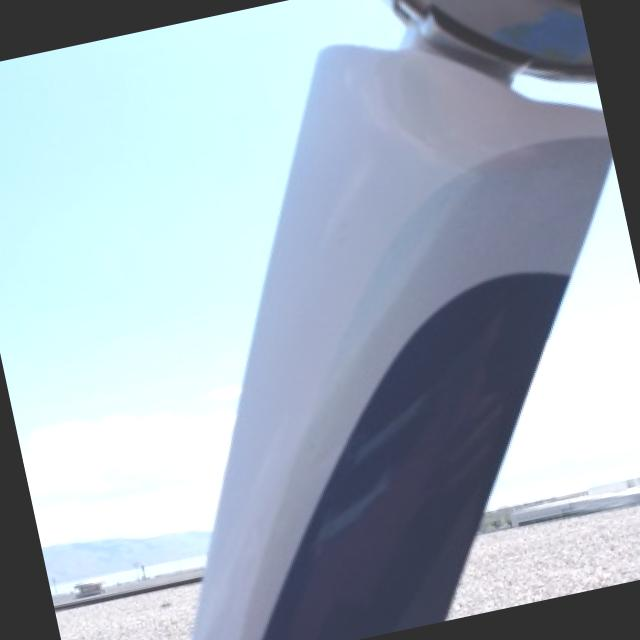healthy: (194, 0, 613, 640), (558, 166, 640, 331)
